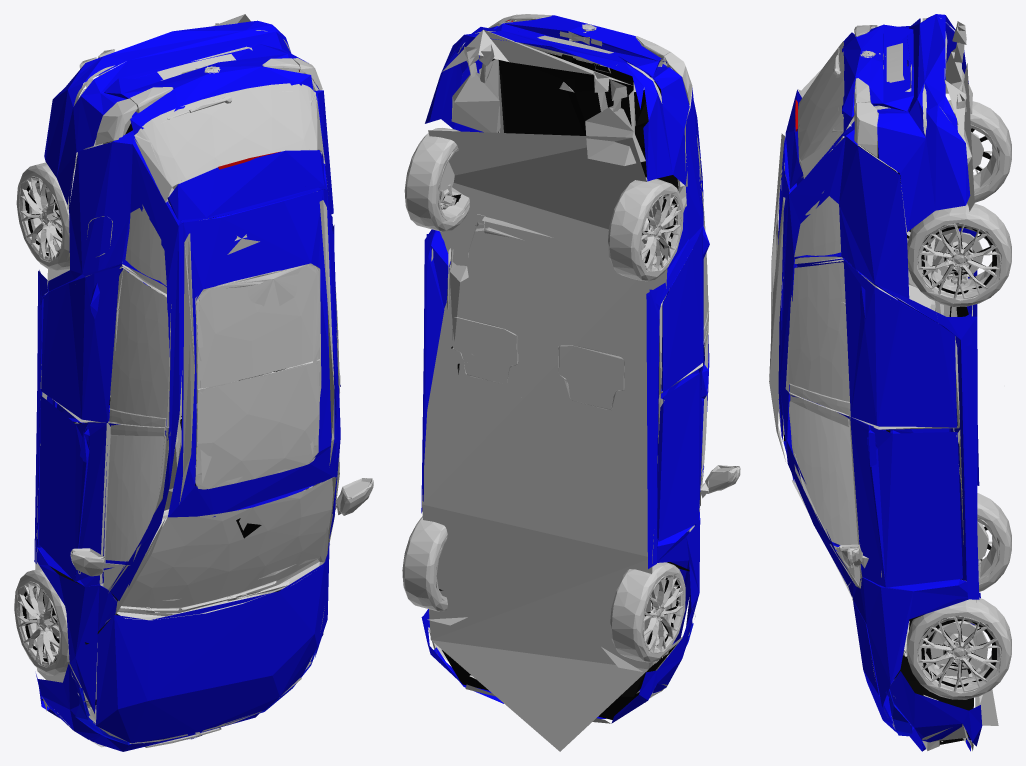
The model's file is 2025_volkswagen_golf_r_variant_mk8.5_reduced24000.obj.
The picture shows the model from 3 angles, left to right: view 1: azimuth 30°, elevation 25°; view 2: azimuth 150°, elevation 25°; view 3: azimuth 270°, elevation 25°; orthographic projection. The views are drawn at different scales.
Parts seen in each view (by area): view 1: Object_191, Object_197, Object_370, Object_233, Object_380, Object_217, Object_154, Object_109, Object_156, Object_107, Object_193, Object_195 (+15 smaller); view 2: Object_193, Object_191, Object_580, Object_109, Object_202, Object_154, Object_690, Object_713, Object_753, Object_370, Object_741, Object_195 (+8 smaller); view 3: Object_191, Object_21, Object_72, Object_70, Object_23, Object_370, Object_753, Object_741, Object_195, Object_380, Object_747, Object_737 (+23 smaller).
Boxes of the visible parts, x1,y1,x2,y2 form: Object_191: (34, 20, 340, 751); Object_197: (103, 477, 334, 610); Object_370: (104, 44, 324, 220); Object_233: (196, 362, 319, 488); Object_380: (135, 83, 320, 195); Object_217: (199, 265, 317, 388); Object_154: (41, 266, 166, 425); Object_109: (39, 395, 165, 583); Object_156: (110, 269, 168, 419); Object_107: (105, 435, 165, 561); Object_193: (35, 46, 333, 700); Object_195: (42, 14, 334, 747); Object_193: (422, 42, 701, 751); Object_191: (421, 26, 709, 723); Object_580: (492, 59, 678, 190); Object_109: (657, 341, 708, 541); Object_202: (451, 44, 645, 165); Object_154: (661, 226, 709, 392); Object_690: (608, 177, 683, 281); Object_713: (610, 562, 685, 662); Object_753: (404, 128, 469, 231); Object_370: (495, 15, 666, 76); Object_741: (402, 516, 447, 611); Object_195: (428, 20, 689, 723); Object_191: (778, 14, 982, 751); Object_21: (789, 394, 962, 587); Object_72: (789, 260, 956, 427); Object_70: (788, 262, 849, 401); Object_23: (790, 401, 857, 545); Object_370: (785, 24, 913, 188); Object_753: (907, 203, 1011, 306); Object_741: (906, 598, 1011, 699); Object_195: (769, 26, 973, 750); Object_380: (798, 42, 843, 171); Object_747: (917, 223, 1001, 299); Object_737: (917, 616, 1001, 692).
Bounding box in the file's own units: 2.09 × 4.78 × 1.51.
